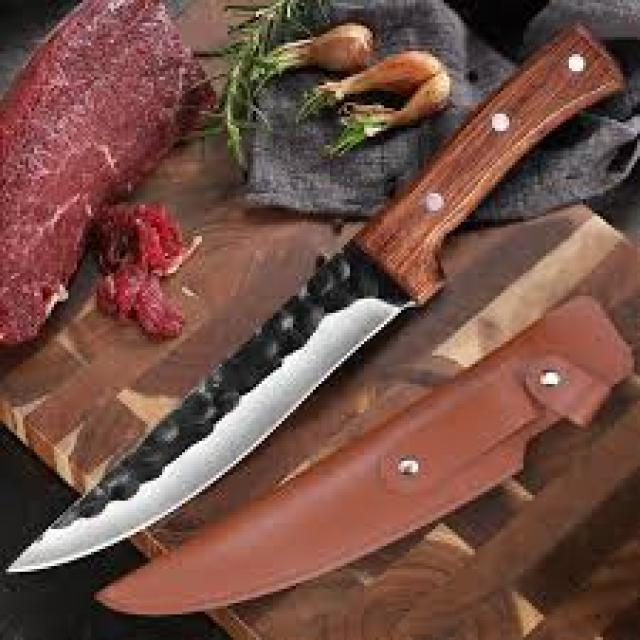Knife: (9, 26, 620, 572)
